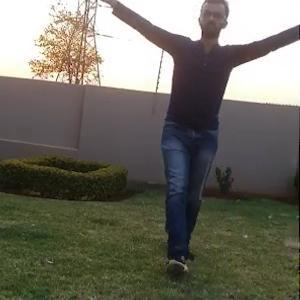takeoff: (106, 3, 297, 266)
